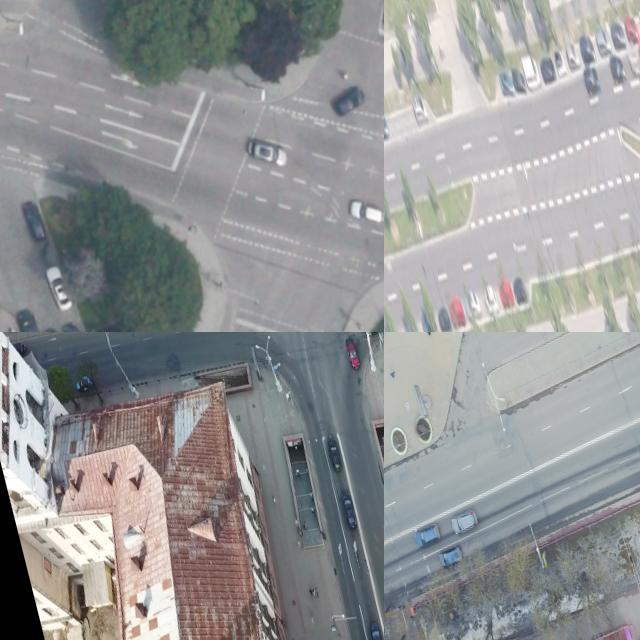UAI: (244, 128, 292, 175), (329, 82, 370, 119), (45, 262, 74, 313), (347, 192, 384, 231), (20, 198, 48, 243), (449, 507, 481, 538), (412, 521, 443, 552), (13, 304, 47, 332), (436, 542, 465, 572), (340, 490, 359, 532), (521, 53, 542, 89), (326, 436, 344, 474), (581, 63, 602, 95), (577, 33, 597, 65), (607, 52, 627, 83), (463, 288, 483, 319), (411, 93, 430, 124), (594, 25, 613, 56), (344, 336, 361, 370), (510, 273, 528, 305), (447, 298, 466, 327), (622, 14, 640, 44), (497, 280, 515, 309), (609, 22, 627, 51), (498, 69, 516, 97), (482, 284, 499, 313), (510, 65, 527, 94), (564, 42, 581, 71), (539, 57, 557, 83), (74, 373, 96, 394), (435, 305, 452, 332), (553, 48, 568, 76), (627, 45, 640, 74), (63, 321, 91, 332), (384, 111, 390, 140)
